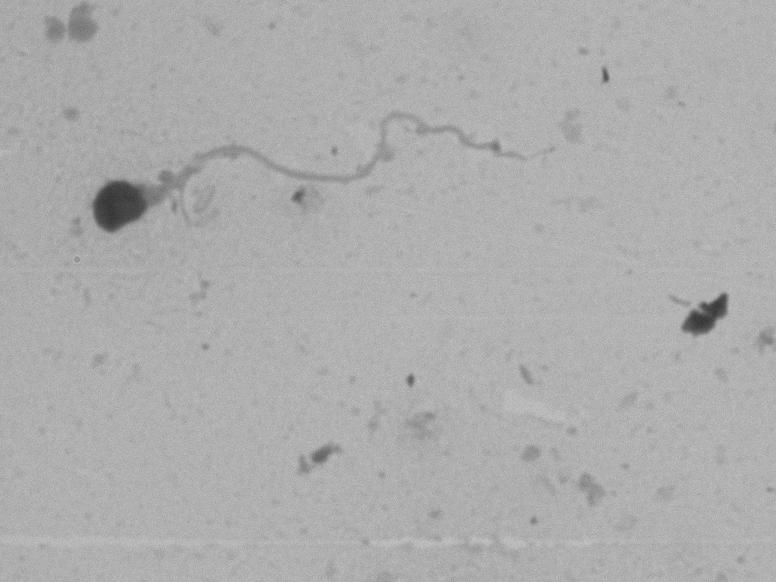Abnormal: (73, 69, 589, 307)
